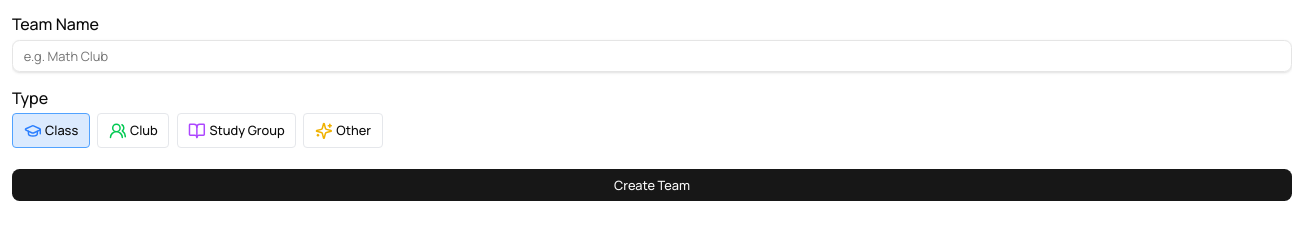
it: QuickCreateTeamForm › shows validation error for short team name
The width and height of the screenshot is (1304, 242).
Type "A" into the field labelled "Team Name" at (652, 56), box top-left (12, 40), bottom-right (1292, 72)
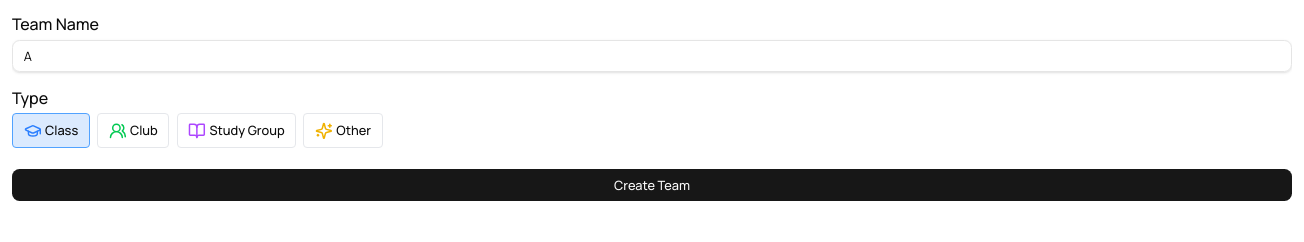
Click the button "Create Team" at (652, 185), box top-left (12, 169), bottom-right (1292, 201)
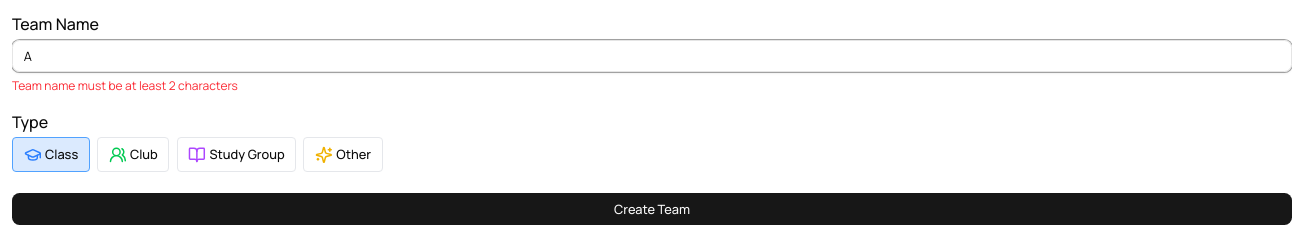
expect the text "Team name must be at least 2 characters" is shown: met, box top-left (12, 76), bottom-right (238, 94)
